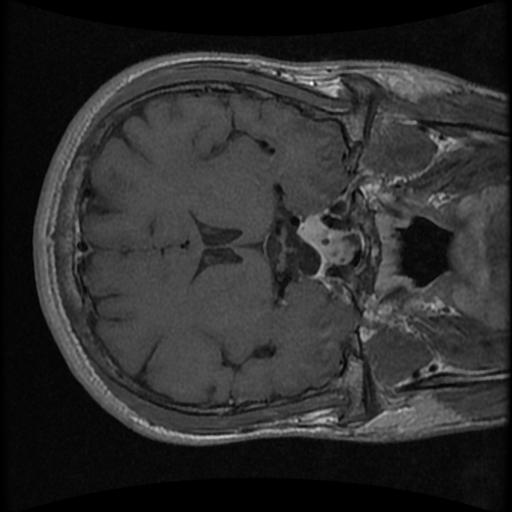pituitary tumour: (297, 217, 356, 265)
